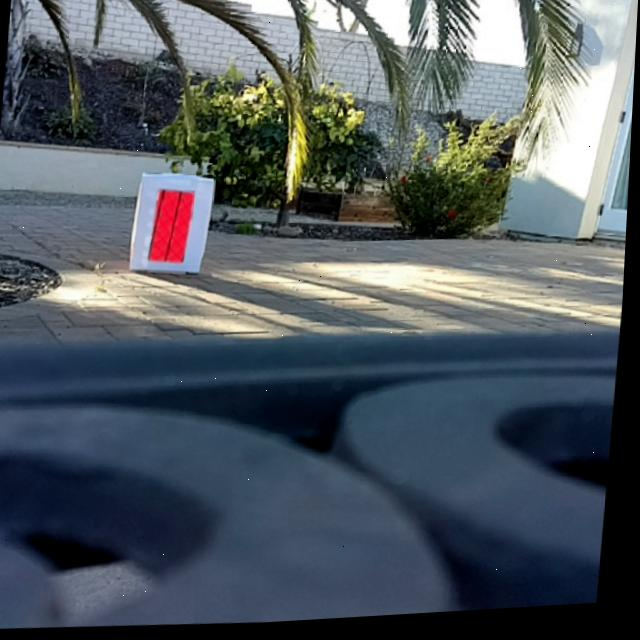led: (152, 190, 198, 266)
